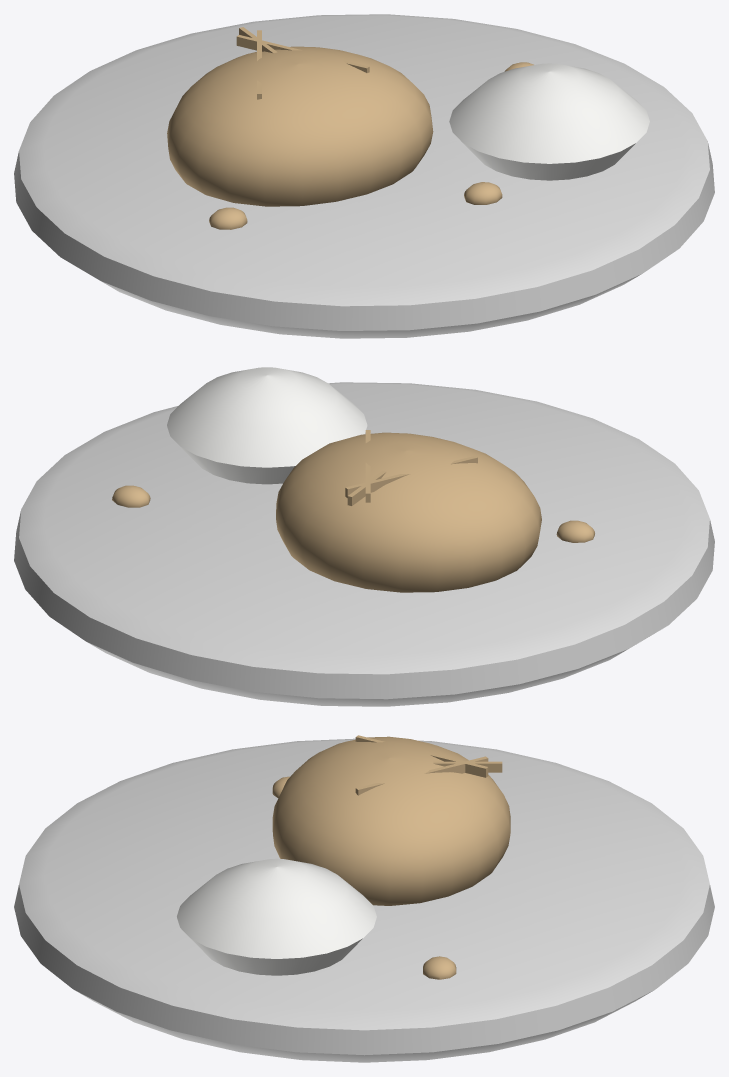
The model's file is tls_prp_003_sin_plate_v001.fbx.
The picture shows the model from 3 angles, top to bottom: view 1: azimuth 30°, elevation 25°; view 2: azimuth 150°, elevation 25°; view 3: azimuth 270°, elevation 25°; orthographic projection.
Visible parts, largest first — view 1: SinPlate_Body, SinPlate_Bread, SinPlate_Salt, SinPlate_Crumb0, SinPlate_Crumb2, SinPlate_Score2; view 2: SinPlate_Body, SinPlate_Bread, SinPlate_Salt, SinPlate_Crumb2, SinPlate_Crumb1, SinPlate_Score0; view 3: SinPlate_Body, SinPlate_Bread, SinPlate_Salt, SinPlate_Crumb1, SinPlate_Score0, SinPlate_Score2.
Part boxes in pixels (x1=…): SinPlate_Body: x1=14, y1=14, x2=714, y2=338; SinPlate_Bread: x1=167, y1=46, x2=433, y2=206; SinPlate_Salt: x1=449, y1=63, x2=649, y2=180; SinPlate_Crumb0: x1=464, y1=182, x2=502, y2=204; SinPlate_Crumb2: x1=209, y1=207, x2=247, y2=229; SinPlate_Score2: x1=236, y1=35, x2=369, y2=72; SinPlate_Body: x1=14, y1=382, x2=714, y2=706; SinPlate_Bread: x1=276, y1=432, x2=541, y2=592; SinPlate_Salt: x1=167, y1=367, x2=367, y2=484; SinPlate_Crumb2: x1=556, y1=520, x2=594, y2=542; SinPlate_Crumb1: x1=112, y1=485, x2=150, y2=507; SinPlate_Score0: x1=345, y1=455, x2=477, y2=497; SinPlate_Body: x1=14, y1=738, x2=714, y2=1062; SinPlate_Bread: x1=272, y1=736, x2=510, y2=905; SinPlate_Salt: x1=177, y1=858, x2=376, y2=975; SinPlate_Crumb1: x1=423, y1=956, x2=456, y2=979; SinPlate_Score0: x1=355, y1=735, x2=488, y2=777; SinPlate_Score2: x1=355, y1=756, x2=488, y2=795.
Size of what is drawn, in the model's own units: 0.28 by 0.28 by 0.066.
